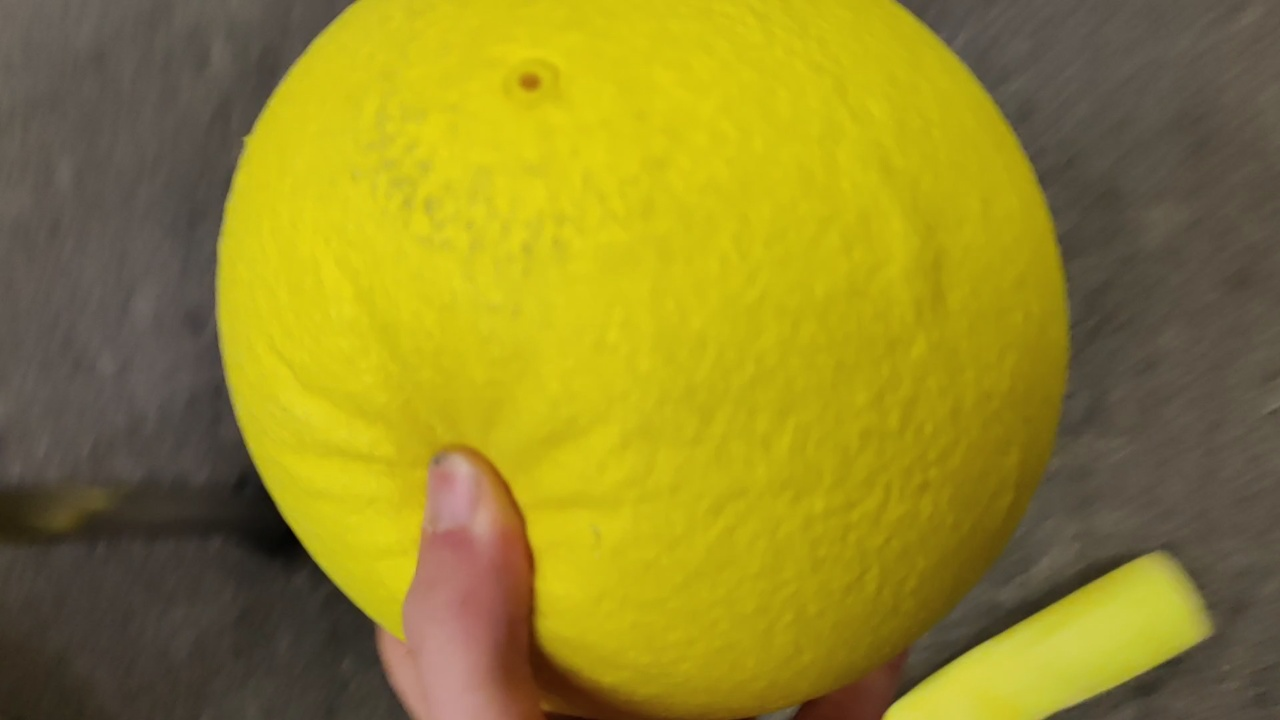Ball: (218, 4, 1065, 710)
